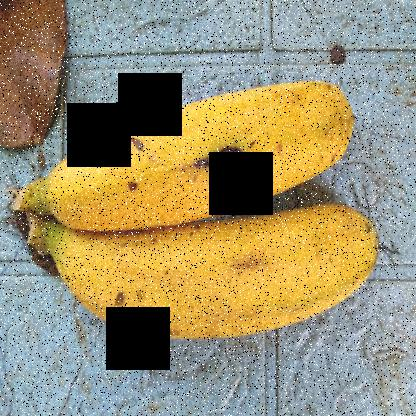freshripe: (45, 191, 378, 359)
ripe: (38, 57, 382, 243)
